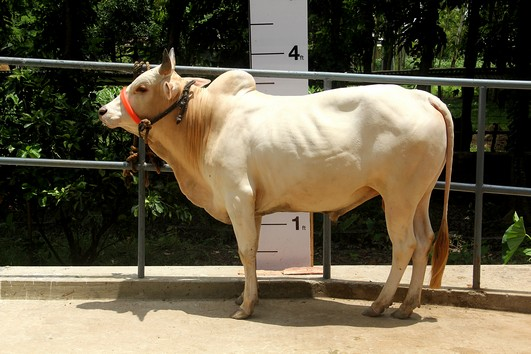cow: (93, 39, 460, 329)
